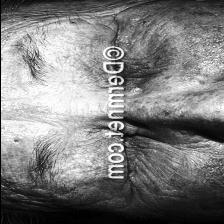Toxin: (128, 27, 190, 82), (144, 136, 195, 198)
